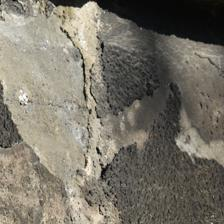Crack: (0, 13, 135, 86), (8, 0, 101, 72)
